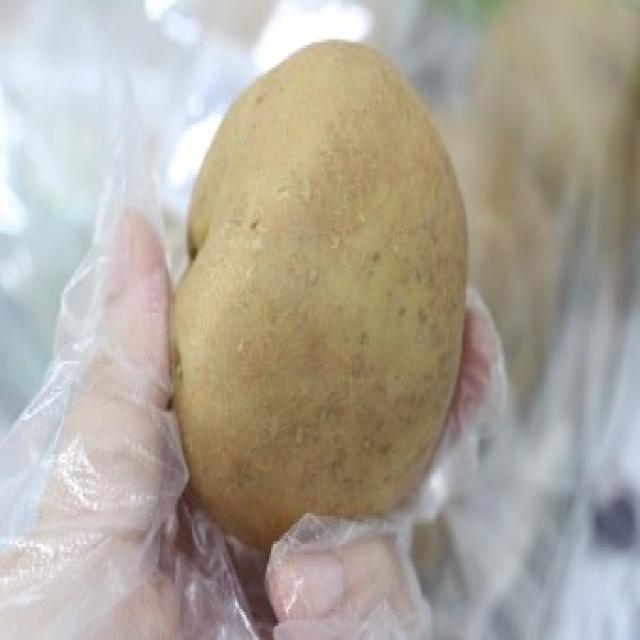potato: (165, 37, 472, 560)
